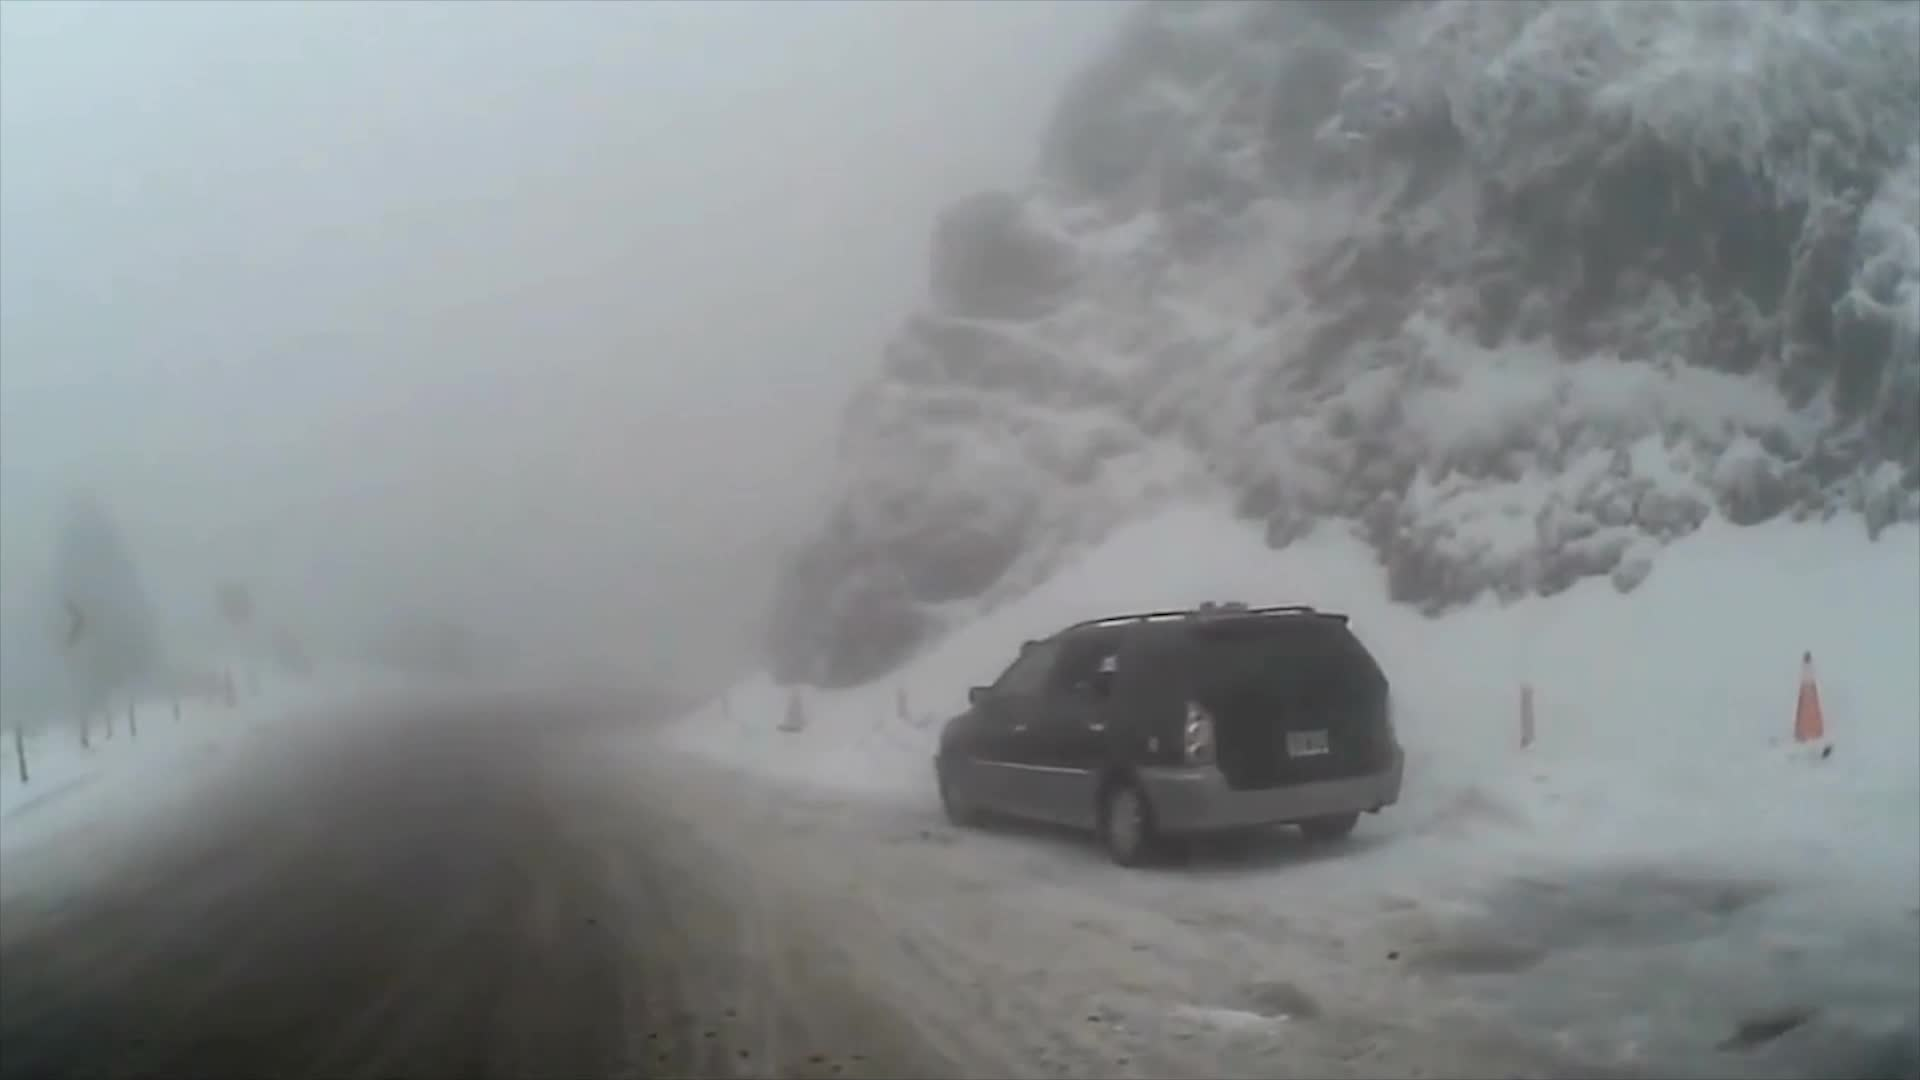vehicle: (932, 599, 1408, 866)
